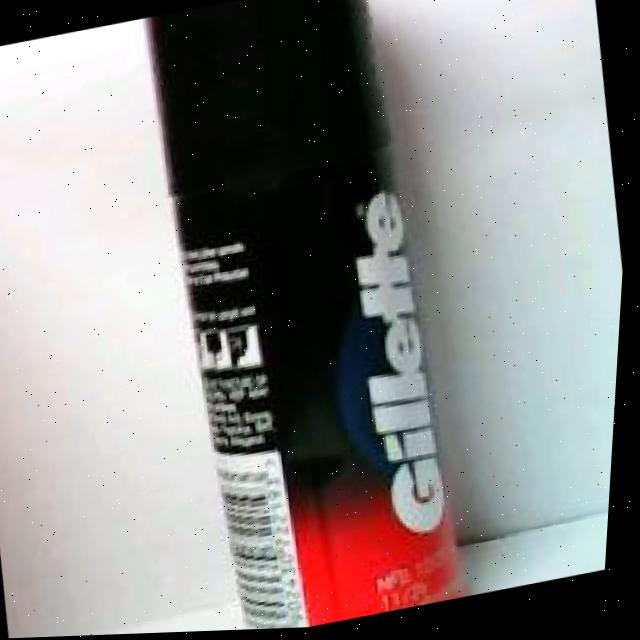gillette-foam: (146, 0, 478, 632)
